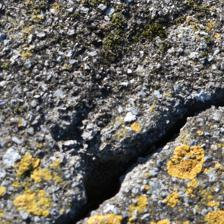Crack: (30, 47, 189, 177)
